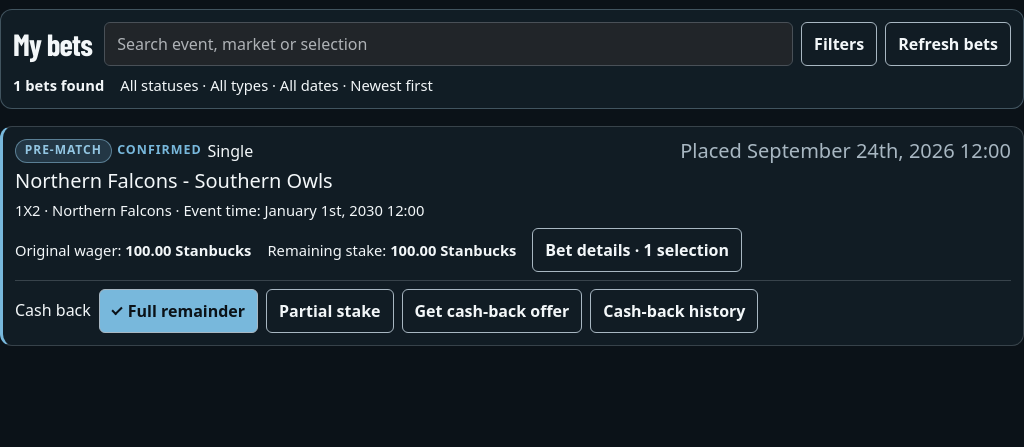
Test: strictly rejects partial 0 without changing the amount or switching to full
The width and height of the screenshot is (1024, 447).
Expected: the heading "Northern Falcons - Southern Owls" is shown, [15,167,333,194]
Click the button "Partial stake": (330, 311) [266,289,394,333]
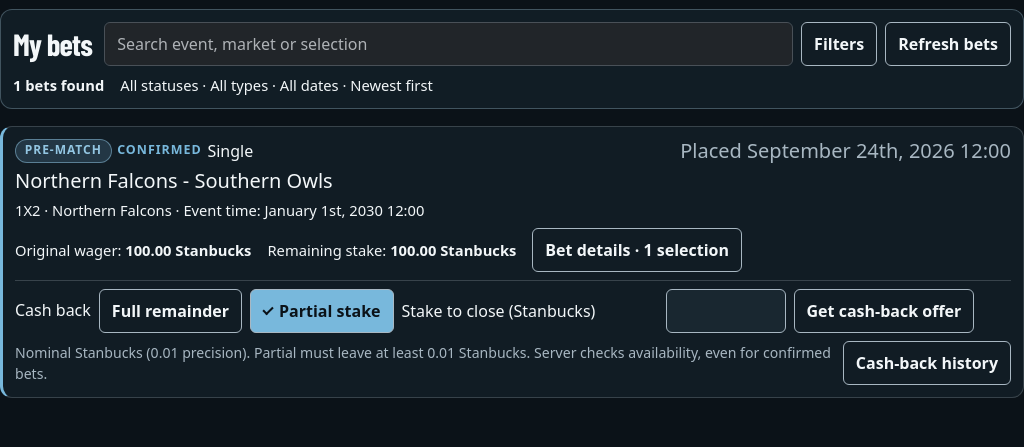
In the number field labelled "Stake to close (Stanbucks)": (726, 311) [666,289,786,333], type "0"
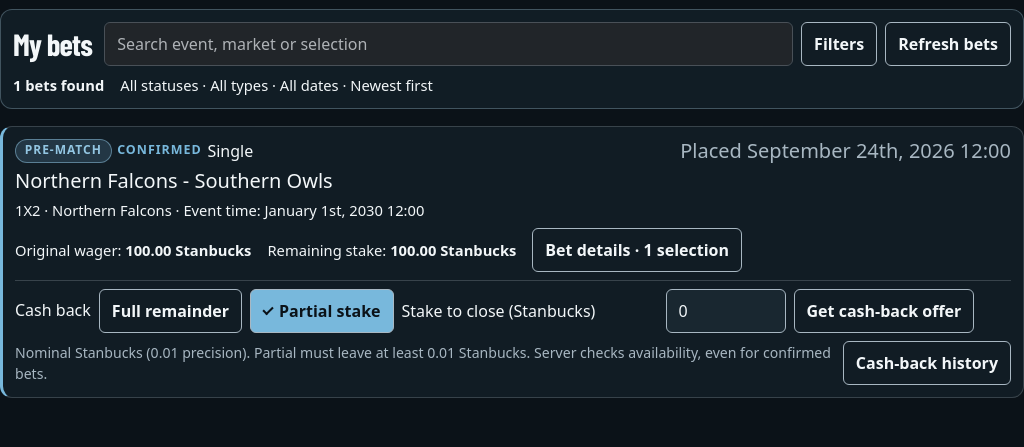
Click the button "Get cash-back offer": (884, 311) [794,289,974,333]
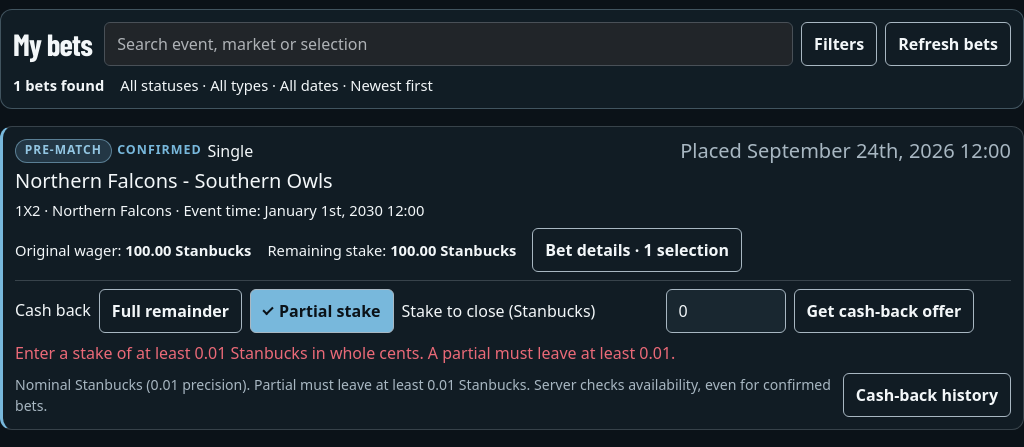
Expected: the 2nd message shows "A partial must leave at least 0.01", [15,342,675,364]
